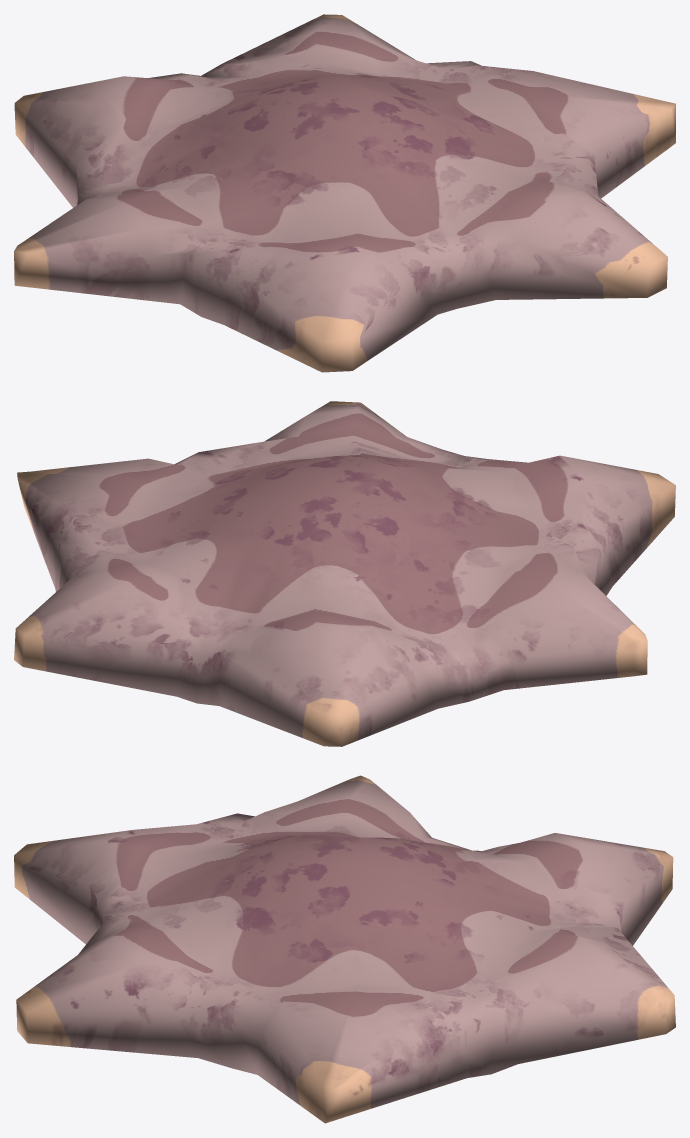
The model's file is pterasterObs00.fbx.
The picture shows the model from 3 angles, top to bottom: view 1: azimuth 30°, elevation 25°; view 2: azimuth 150°, elevation 25°; view 3: azimuth 270°, elevation 25°; orthographic projection.
Parts seen in each view (by area): view 1: PterasterObscurus_final; view 2: PterasterObscurus_final; view 3: PterasterObscurus_final.
Boxes of the visible parts, x1,y1,x2,y2 form: PterasterObscurus_final: (14, 14, 675, 372); PterasterObscurus_final: (14, 401, 675, 746); PterasterObscurus_final: (14, 775, 675, 1123).
Bounding box in the file's own units: 0.8087 × 0.1534 × 0.7207.
1 material, 1 textured.
